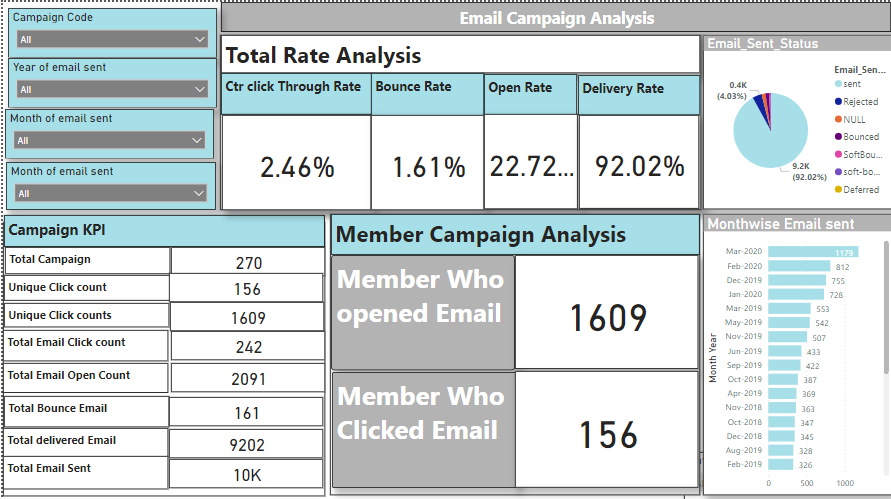

Layout of this report page (visuals, bound fields, positions):
{"tool":"powerbi","page":{"name":"Page 1","canvas":[1280,720],"ordinal":0},"visuals":[{"type":"textbox","box":[313.9,0,964.8,43.2],"z":0},{"type":"slicer","title":"Campaign Code","fields":{"Values":["TBL_Communication.CampaignCodJ"]},"box":[7.2,8.6,301,70.6],"z":1000},{"type":"slicer","title":"Year of email sent","fields":{"Values":["TBL_Communication.Email_SentDate.Variation.Date Hierarchy.Year"]},"box":[6.7,80.7,301.1,70.6],"z":2000},{"type":"slicer","title":"Month of email sent","fields":{"Values":["TBL_Communication.Email_SentDate.Variation.Date Hierarchy.Month"]},"box":[3.4,154.7,301.1,70.6],"z":3000},{"type":"slicer","title":"Day of email sent","fields":{"Values":["TBL_Communication.Email_SentDate.Variation.Date Hierarchy.Day"]},"box":[980,648.3,300,71.7],"z":4000},{"type":"textbox","box":[312.5,47.5,692.6,252],"z":5000},{"type":"textbox","box":[313.9,47.5,689.8,54.7],"z":6000},{"type":"textbox","box":[313.9,102.2,220.3,60.5],"z":7000},{"type":"slicer","title":"Month of email sent","fields":{"Values":["TBL_Communication.Email_SentDate.Variation.Date Hierarchy.Month"]},"box":[4.3,230.4,302.4,69.1],"z":8000},{"type":"textbox","box":[529.9,102.2,162.7,61.9],"z":9000},{"type":"textbox","box":[692.6,103.7,133.9,60.5],"z":10000},{"type":"textbox","box":[828,105.1,175.7,57.6],"z":11000},{"type":"textbox","box":[0,316.8,463.7,394.6],"z":12000},{"type":"textbox","box":[1.4,306.7,462.2,46.1],"z":13000},{"type":"textbox","box":[2.9,352.8,237.6,38.9],"z":14000},{"type":"textbox","box":[0,613.4,237.6,43.2],"z":15000},{"type":"textbox","box":[1.4,567.4,237.6,44.6],"z":16000},{"type":"textbox","box":[0,519.8,237.6,43.2],"z":17000},{"type":"textbox","box":[0,472.3,237.6,44.6],"z":18000},{"type":"textbox","box":[1.4,433.4,237.6,34.6],"z":19000},{"type":"textbox","box":[1.4,393.1,239,37.4],"z":20000},{"type":"textbox","box":[0,653.8,237.6,47.5],"z":21000},{"type":"card","fields":{"Values":["Count(TBL_Communication.CampaignCodJ)"]},"box":[241.9,352.8,221.8,41.8],"z":22000},{"type":"card","fields":{"Values":["Sum(TBL_Communication.Unique click)"]},"box":[239,390.2,221.8,41.8],"z":23000},{"type":"card","fields":{"Values":["Sum(TBL_Communication.Unique Open)"]},"box":[240.5,432,221.8,41.8],"z":24000},{"type":"card","fields":{"Values":["Sum(TBL_Communication.Email_Click_Count)"]},"box":[241.9,473.8,221.8,41.8],"z":25000},{"type":"card","fields":{"Values":["Sum(TBL_Communication.Email_Open_Count)"]},"box":[241.9,519.8,221.8,41.8],"z":26000},{"type":"card","fields":{"Values":["Sum(TBL_Communication.Bounced Email)"]},"box":[239,568.8,221.8,41.8],"z":27000},{"type":"card","fields":{"Values":["Sum(TBL_Communication.Delivered Email)"]},"box":[239,614.9,221.8,41.8],"z":28000},{"type":"card","fields":{"Values":["Sum(TBL_Communication.Is_Email_Sent)"]},"box":[239,658.1,221.8,41.8],"z":29000},{"type":"card","fields":{"Values":["TBL_Communication.CTR"]},"box":[315.4,162.7,214.6,136.8],"z":30000},{"type":"card","fields":{"Values":["TBL_Communication.BR"]},"box":[529.9,162.7,162.7,136.8],"z":31000},{"type":"card","fields":{"Values":["TBL_Communication.OR"]},"box":[692.6,161.3,135.4,136.8],"z":32000},{"type":"card","fields":{"Values":["TBL_Communication.DR"]},"box":[829.4,162.7,172.8,135.4],"z":33000},{"type":"textbox","box":[470.9,305.3,532.8,404.6],"z":34000},{"type":"textbox","box":[472.3,305.3,531.4,59],"z":35000},{"type":"textbox","box":[472.3,364.3,265,165.6],"z":36000},{"type":"textbox","box":[473.8,532.8,265,167],"z":37000},{"type":"card","fields":{"Values":["CountNonNull(TBL_Communication.Member Open)"]},"box":[737.3,364.3,263.5,164.2],"z":38000},{"type":"card","fields":{"Values":["CountNonNull(TBL_Communication.Member Click)"]},"box":[737.3,531.4,263.5,168.5],"z":39000},{"type":"pieChart","title":"Email_Sent_Status","fields":{"Category":["TBL_Communication.Email_Sent_Status"],"Y":["CountNonNull(TBL_Communication.CampaignCodJ)"]},"box":[1007.8,47.5,272.2,250.6],"z":40000},{"type":"clusteredBarChart","title":"Monthwise Email sent","fields":{"Category":["TBL_Communication.Month Year"],"Y":["Sum(TBL_Communication.Is_Email_Sent)"]},"box":[1008,305,272,405],"z":41000}]}

Visuals, with their boxes in screenshot pixels (x1, y1, x2, y2), scaled from the page's 1280x720 canvas onto the 891x499 screenshot:
textbox: crop(219, 0, 890, 30)
"Campaign Code" slicer: crop(5, 6, 215, 55)
"Year of email sent" slicer: crop(5, 56, 214, 105)
"Month of email sent" slicer: crop(2, 107, 212, 156)
"Day of email sent" slicer: crop(682, 449, 890, 498)
textbox: crop(218, 33, 700, 208)
textbox: crop(219, 33, 699, 71)
textbox: crop(219, 71, 372, 113)
"Month of email sent" slicer: crop(3, 160, 213, 208)
textbox: crop(369, 71, 482, 114)
textbox: crop(482, 72, 575, 114)
textbox: crop(576, 73, 699, 113)
textbox: crop(0, 220, 323, 493)
textbox: crop(1, 213, 323, 245)
textbox: crop(2, 245, 167, 271)
textbox: crop(0, 425, 165, 455)
textbox: crop(1, 393, 166, 424)
textbox: crop(0, 360, 165, 390)
textbox: crop(0, 327, 165, 358)
textbox: crop(1, 300, 166, 324)
textbox: crop(1, 272, 167, 298)
textbox: crop(0, 453, 165, 486)
card - Count(TBL_Communication.CampaignCodJ): crop(168, 245, 323, 273)
card - Sum(TBL_Communication.Unique click): crop(166, 270, 321, 299)
card - Sum(TBL_Communication.Unique Open): crop(167, 299, 322, 328)
card - Sum(TBL_Communication.Email_Click_Count): crop(168, 328, 323, 357)
card - Sum(TBL_Communication.Email_Open_Count): crop(168, 360, 323, 389)
card - Sum(TBL_Communication.Bounced Email): crop(166, 394, 321, 423)
card - Sum(TBL_Communication.Delivered Email): crop(166, 426, 321, 455)
card - Sum(TBL_Communication.Is_Email_Sent): crop(166, 456, 321, 485)
card - TBL_Communication.CTR: crop(220, 113, 369, 208)
card - TBL_Communication.BR: crop(369, 113, 482, 208)
card - TBL_Communication.OR: crop(482, 112, 576, 207)
card - TBL_Communication.DR: crop(577, 113, 698, 207)
textbox: crop(328, 212, 699, 492)
textbox: crop(329, 212, 699, 252)
textbox: crop(329, 252, 513, 367)
textbox: crop(330, 369, 514, 485)
card - CountNonNull(TBL_Communication.Member Open): crop(513, 252, 697, 366)
card - CountNonNull(TBL_Communication.Member Click): crop(513, 368, 697, 485)
"Email_Sent_Status" pieChart: crop(702, 33, 890, 207)
"Monthwise Email sent" clusteredBarChart: crop(702, 211, 890, 492)
